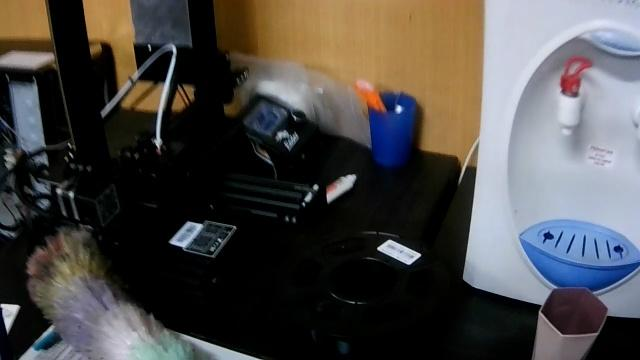Dispenser: (461, 0, 639, 320)
